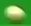white: (0, 0, 31, 26)
